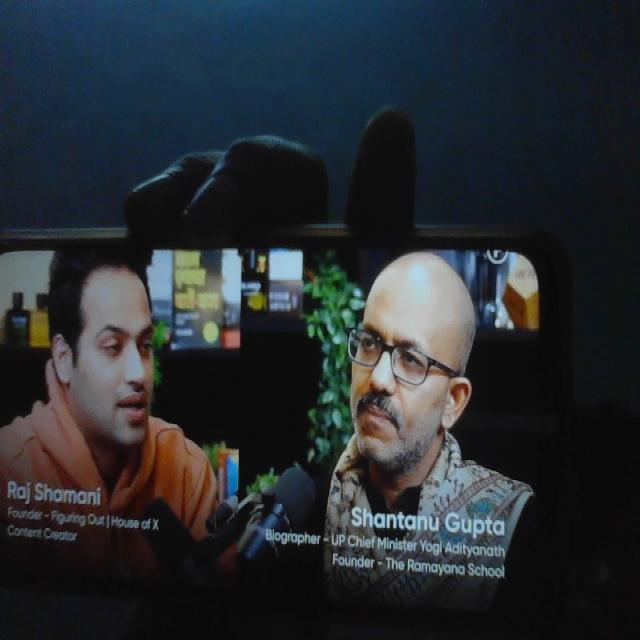fake: (335, 216, 473, 476), (52, 229, 172, 456)
